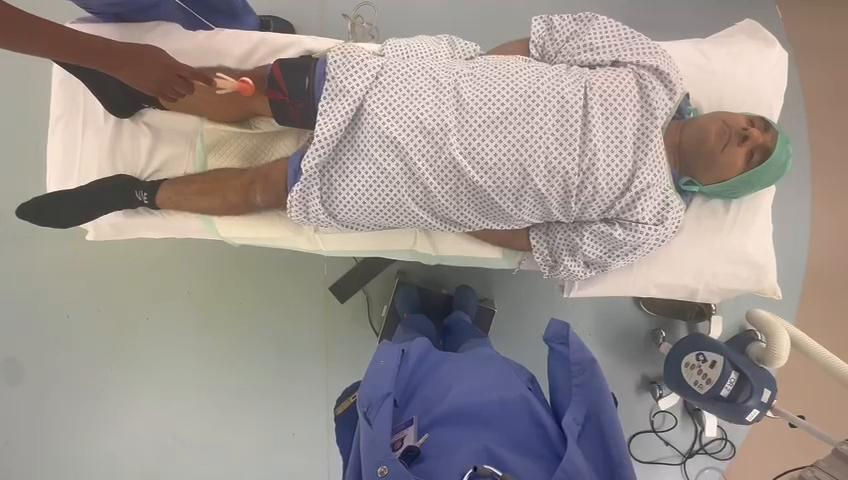bed: (17, 15, 792, 302)
patient: (17, 13, 792, 279)
prepstick: (215, 73, 255, 96)
tourniquet: (265, 55, 318, 128)
